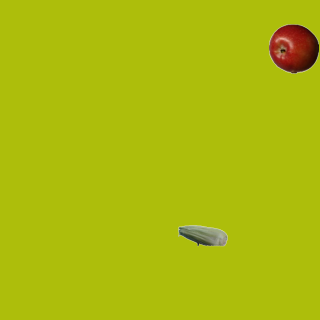Apple Braeburn: (268, 23, 318, 73)
Corn Husk: (177, 210, 227, 260)
